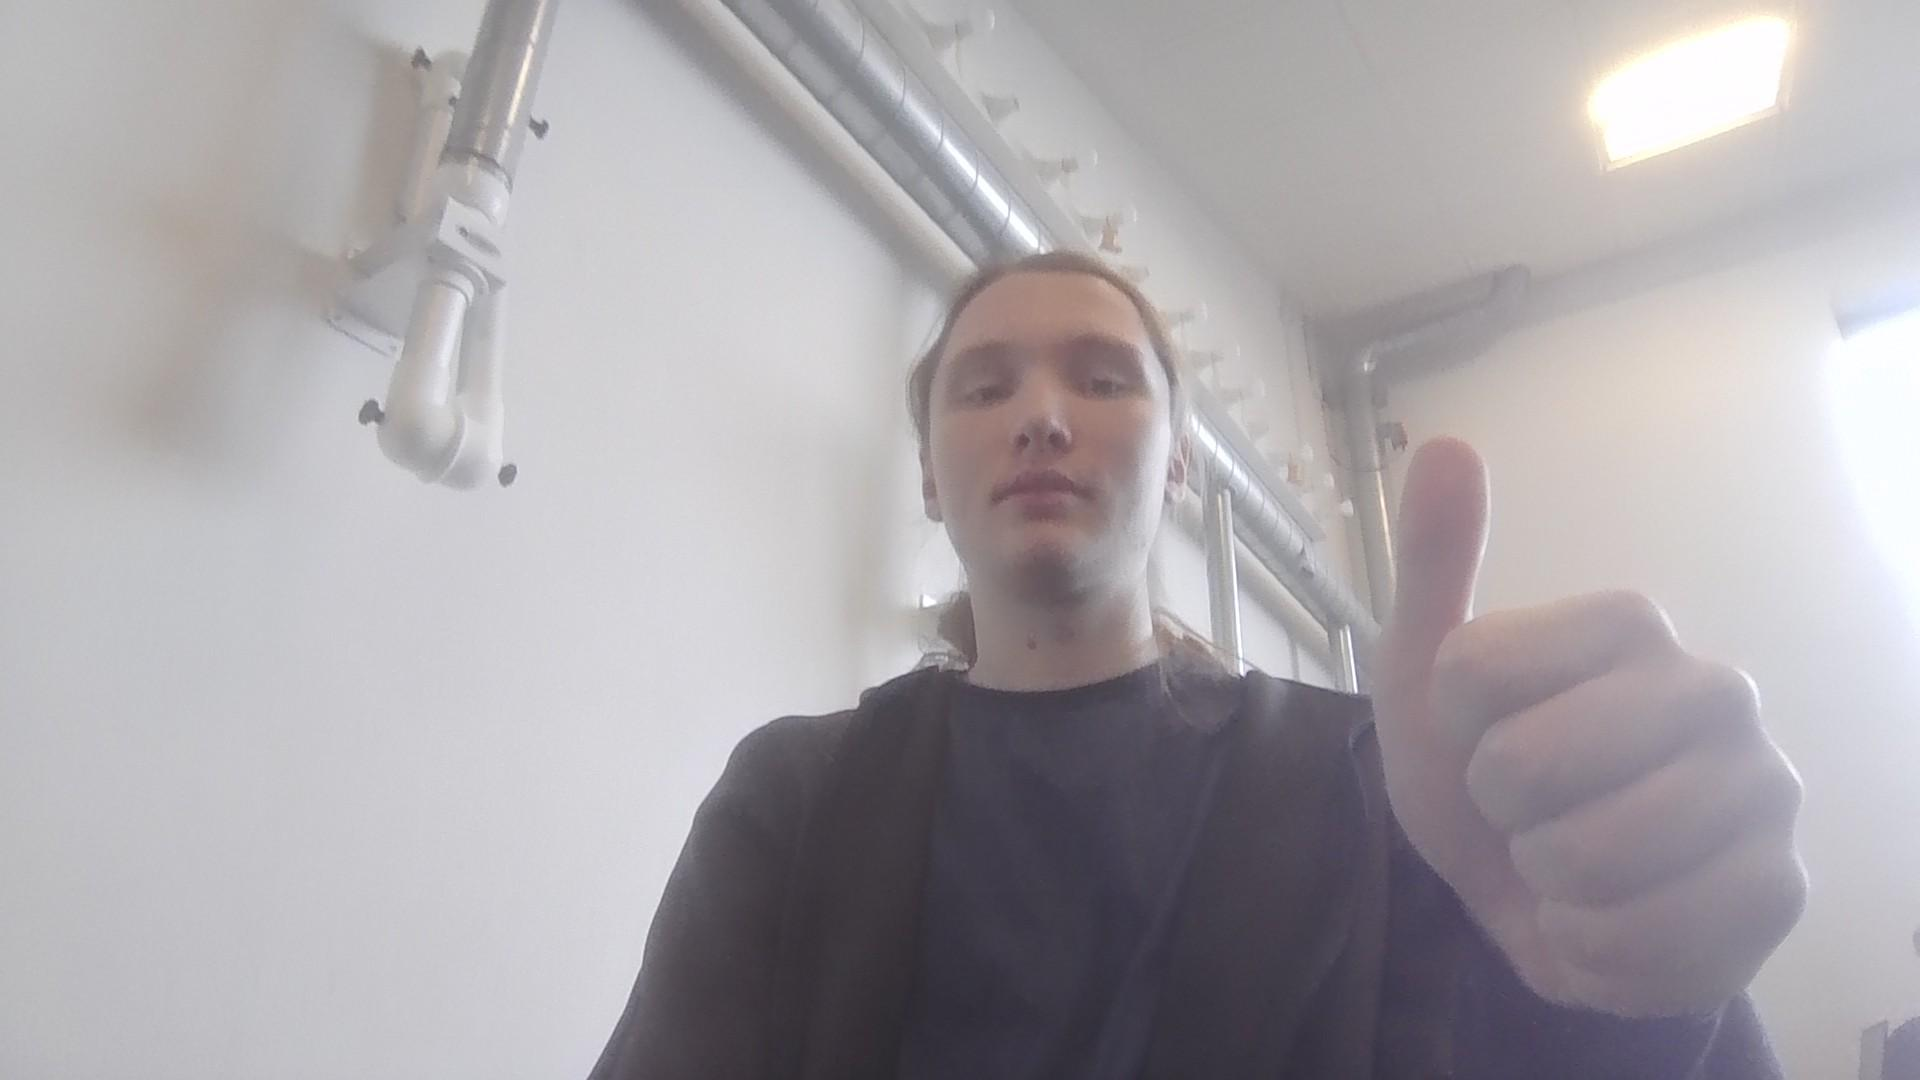thumbs up: (1385, 423, 1821, 1000)
